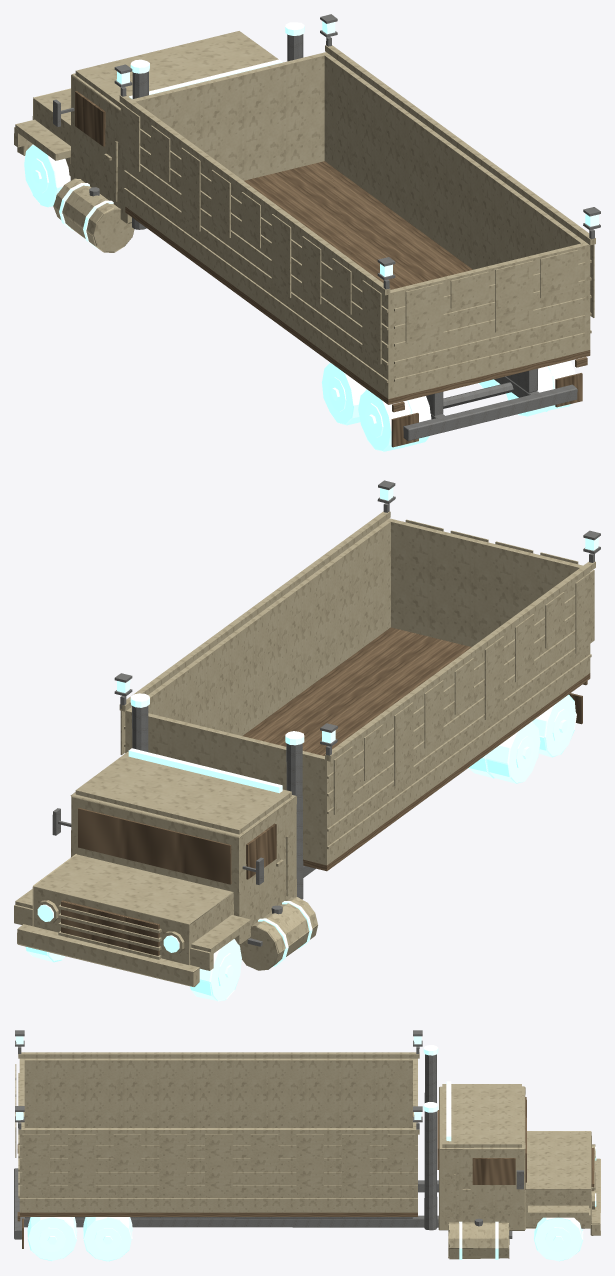
Rendered from ghost_hauler.glb.
3 renders of one model, top to bottom at view 1: azimuth 30°, elevation 25°; view 2: azimuth 150°, elevation 25°; view 3: azimuth 270°, elevation 25°, orthographic. The views are drawn at different scales.
Parts seen in each view (by area): view 1: GhostHauler, Tailgate, Wheel_L3, Wheel_L1, Wheel_L2, Wheel_R3; view 2: GhostHauler, Tailgate, Wheel_L2, Wheel_L1, Wheel_L3; view 3: GhostHauler, Wheel_R2, Wheel_R3, Wheel_R1.
Boxes of the visible parts, x1,y1,x2,y2 form: GhostHauler: [14, 14, 600, 447]; Tailgate: [391, 243, 584, 397]; Wheel_L3: [358, 389, 431, 451]; Wheel_L1: [24, 144, 70, 207]; Wheel_L2: [321, 362, 366, 425]; Wheel_R3: [506, 360, 575, 416]; GhostHauler: [14, 480, 600, 986]; Tailgate: [391, 519, 582, 646]; Wheel_L2: [468, 721, 540, 783]; Wheel_L1: [190, 939, 241, 1001]; Wheel_L3: [532, 694, 576, 757]; GhostHauler: [14, 1030, 600, 1259]; Wheel_R2: [83, 1217, 132, 1261]; Wheel_R3: [27, 1217, 77, 1261]; Wheel_R1: [533, 1217, 583, 1261].
Bounding box in the file's own units: 3.41 × 2.98 × 10.07.
Materials: 4 (3 with a texture image).
